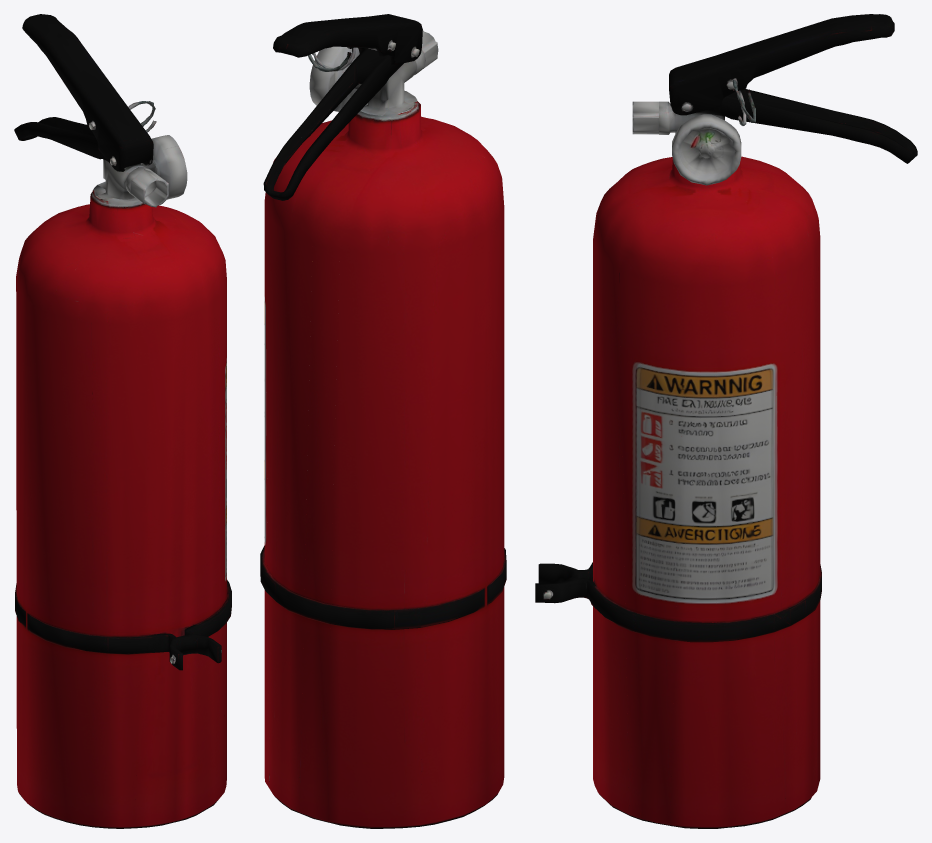
The model's file is fire+extinguisher_body.fbx.
3 views of the same model, side by side, from view 1: azimuth 30°, elevation 25°; view 2: azimuth 150°, elevation 25°; view 3: azimuth 270°, elevation 25° (orthographic). The views are drawn at different scales.
Parts seen in each view (by area): view 1: tripo_part_0, tripo_part_3, tripo_part_2, tripo_part_6, tripo_part_9, tripo_part_5; view 2: tripo_part_0, tripo_part_9, tripo_part_2, tripo_part_3, tripo_part_6, tripo_part_5; view 3: tripo_part_0, tripo_part_3, tripo_part_2, tripo_part_9, tripo_part_5, tripo_part_6.
Boxes of the visible parts, x1,y1,x2,y2 form: tripo_part_0: (16,185,226,828); tripo_part_3: (22,14,153,171); tripo_part_2: (15,580,231,670); tripo_part_6: (96,159,168,207); tripo_part_9: (14,117,145,166); tripo_part_5: (141,135,187,199); tripo_part_0: (264,90,504,828); tripo_part_9: (263,48,403,200); tripo_part_2: (260,545,506,629); tripo_part_3: (273,14,422,65); tripo_part_6: (360,30,438,115); tripo_part_5: (309,46,361,111); tripo_part_0: (593,156,820,828); tripo_part_3: (669,14,894,115); tripo_part_2: (535,562,821,642); tripo_part_9: (697,89,917,163); tripo_part_5: (672,114,741,185); tripo_part_6: (632,101,724,134).
Bounding box in the file's own units: 0.2759 × 1 × 0.454.
